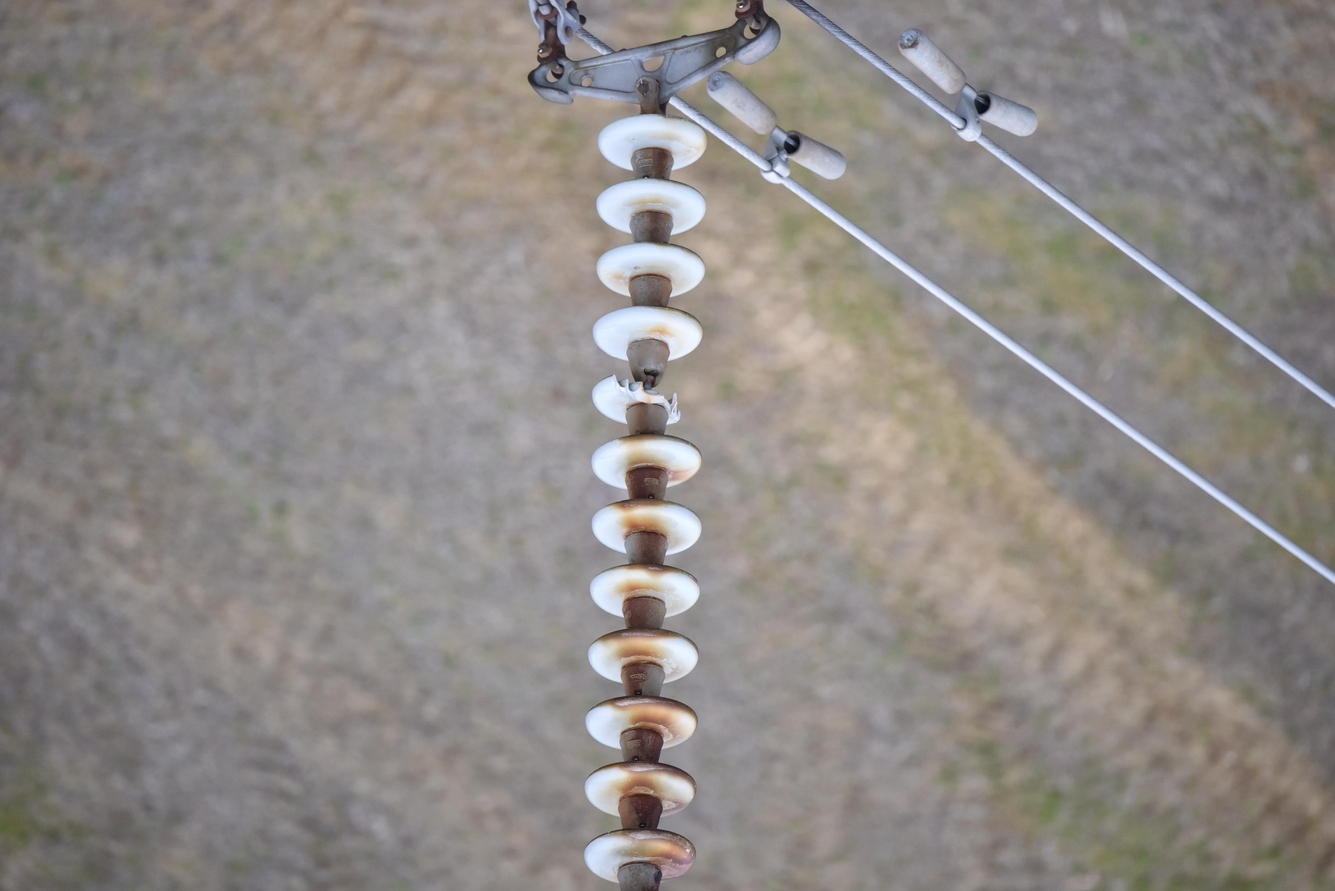damaged: (607, 372, 683, 427)
hammer: (897, 24, 1041, 147), (705, 69, 848, 186)
insulator: (584, 114, 718, 891)
